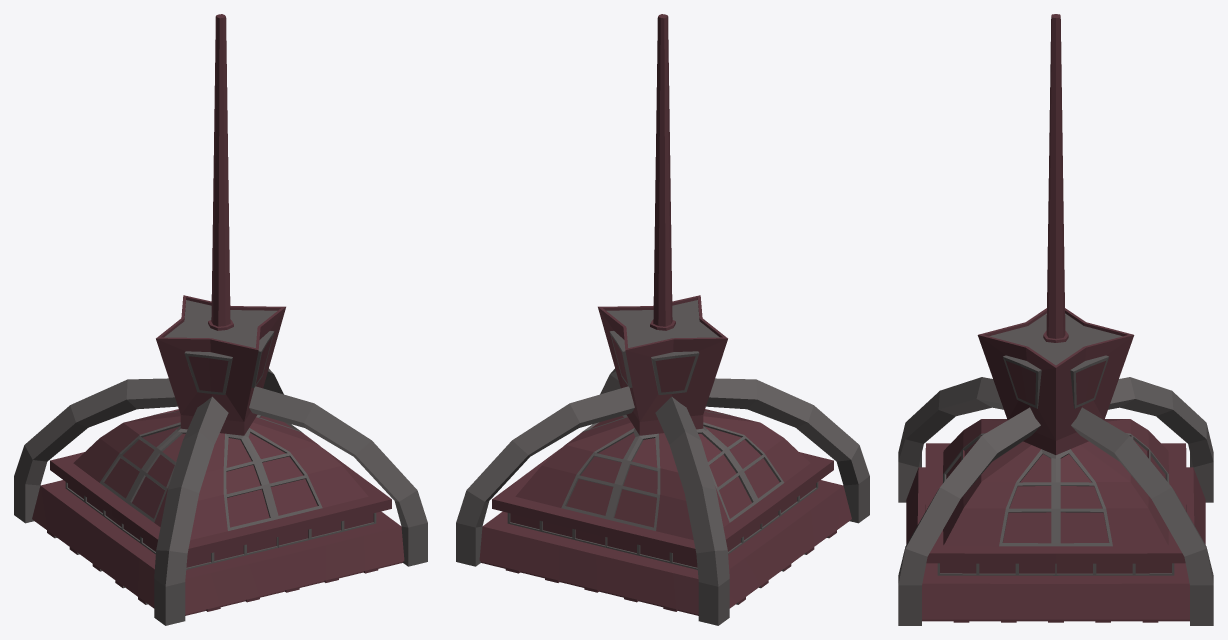
Rendered from skyscraper-part-top.fbx.
3 views of the same model, side by side, from view 1: azimuth 30°, elevation 25°; view 2: azimuth 150°, elevation 25°; view 3: azimuth 270°, elevation 25° (orthographic). The views are drawn at different scales.
Visible parts, largest first — view 1: skyscraper-part-top; view 2: skyscraper-part-top; view 3: skyscraper-part-top.
Part boxes in pixels (x1=…): skyscraper-part-top: x1=14, y1=14, x2=427, y2=625; skyscraper-part-top: x1=456, y1=14, x2=869, y2=625; skyscraper-part-top: x1=898, y1=14, x2=1213, y2=625.
Bounding box in the file's own units: 20 × 38.04 × 20.
